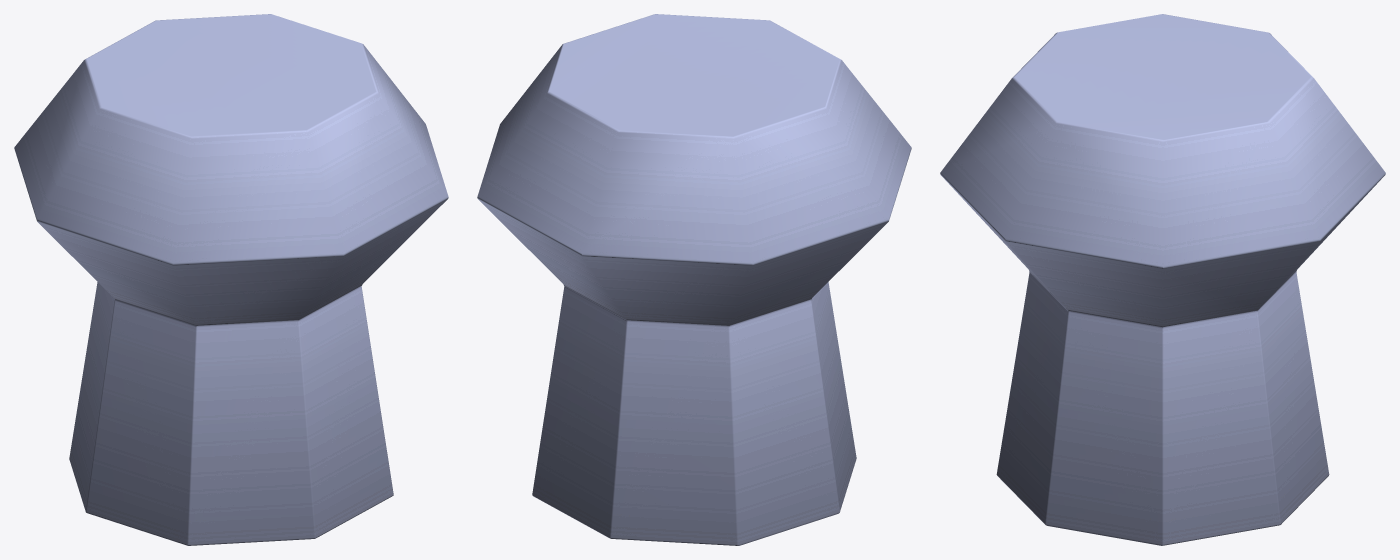
Rendered from detail-pipe.glb.
3 views of the same model, side by side, from view 1: azimuth 30°, elevation 25°; view 2: azimuth 150°, elevation 25°; view 3: azimuth 270°, elevation 25° (orthographic).
Visible parts, largest first — view 1: detail-pipe; view 2: detail-pipe; view 3: detail-pipe.
Part boxes in pixels (box(x1,y1,x2,y2)): detail-pipe: box(14, 14, 448, 545); detail-pipe: box(477, 14, 911, 545); detail-pipe: box(940, 14, 1385, 545).
Size of the model in its own units: 0.4329 by 0.4277 by 0.4329.
1 material, 1 textured.
